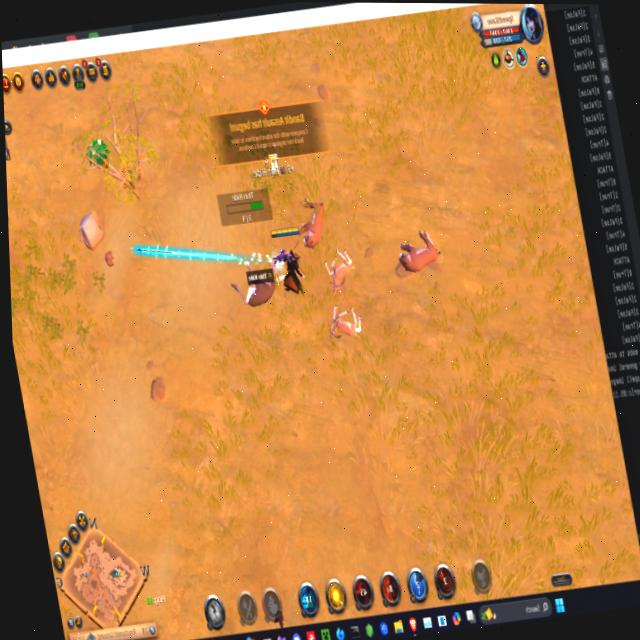hide: (84, 132, 113, 173)
mob: (224, 250, 286, 315), (386, 223, 447, 286), (293, 194, 333, 254), (319, 242, 359, 294), (325, 301, 365, 344)
red: (267, 224, 312, 301)
